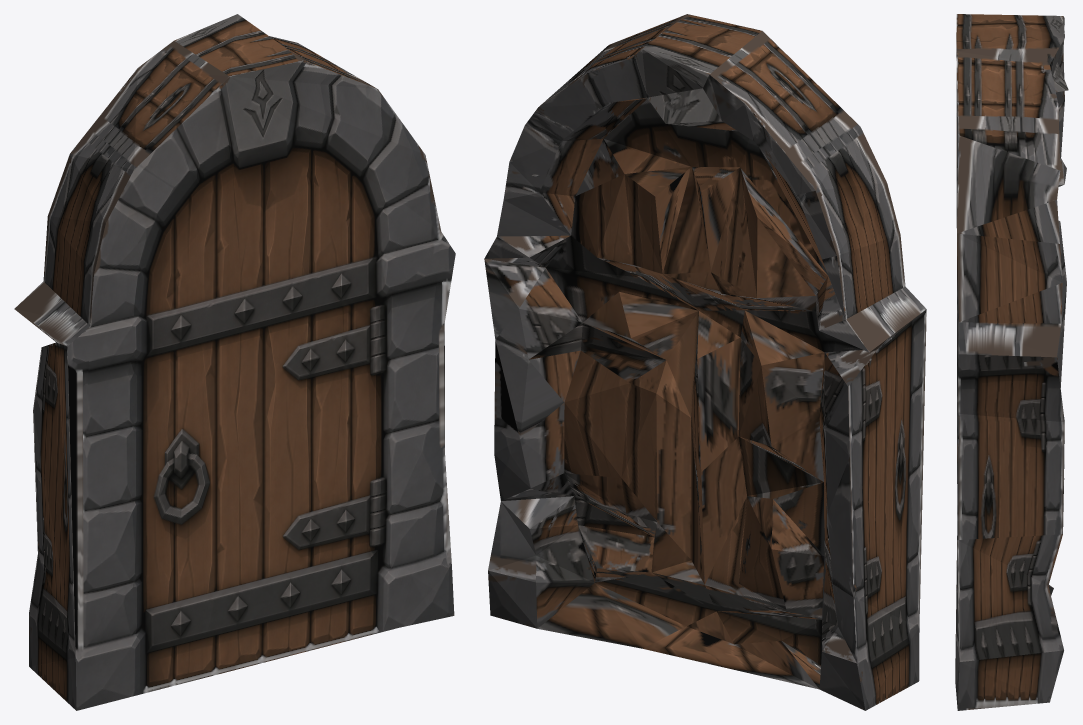
File: SM_Dungeon_Door_A_LOD2.fbx
3 views of the same model, side by side, from view 1: azimuth 30°, elevation 25°; view 2: azimuth 150°, elevation 25°; view 3: azimuth 270°, elevation 25° (orthographic). The views are drawn at different scales.
Visible parts, largest first — view 1: SM_Dungeon_Door_A_LOD2; view 2: SM_Dungeon_Door_A_LOD2; view 3: SM_Dungeon_Door_A_LOD2.
Part boxes in pixels (bbox=[...]): SM_Dungeon_Door_A_LOD2: bbox=[14, 14, 455, 710]; SM_Dungeon_Door_A_LOD2: bbox=[484, 14, 926, 710]; SM_Dungeon_Door_A_LOD2: bbox=[955, 14, 1068, 710].
Size of the model in its own units: 2 by 2.98 by 0.5136.
